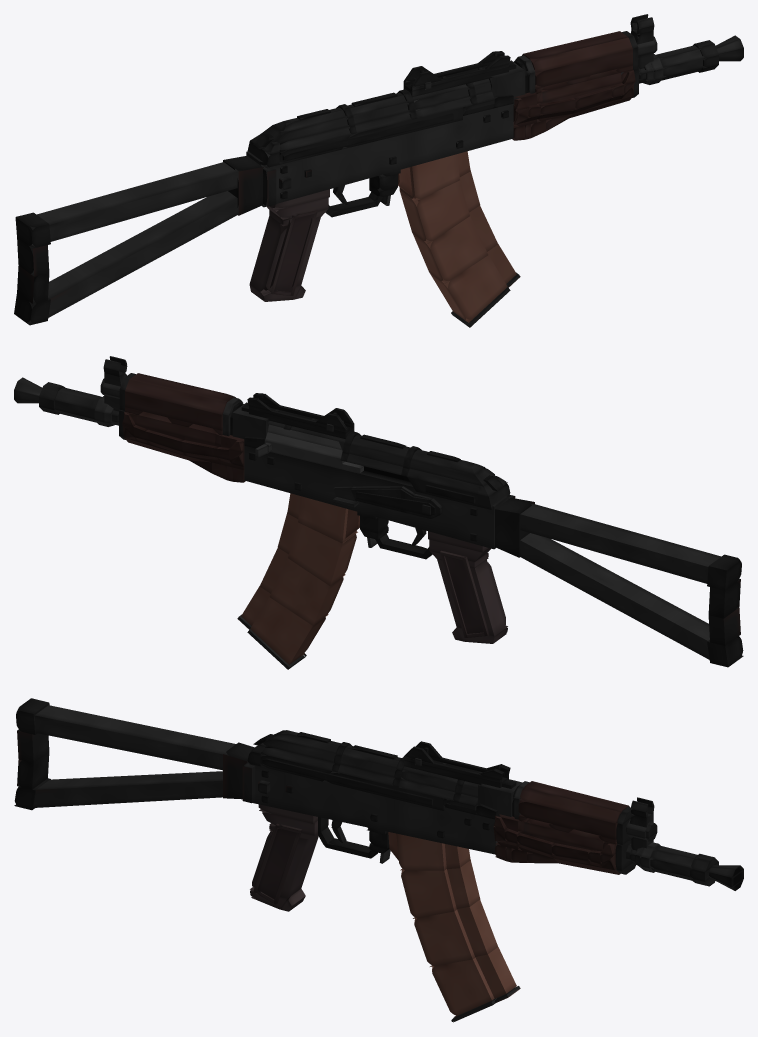
File: aks74u.obj
The picture shows the model from 3 angles, top to bottom: view 1: azimuth 30°, elevation 25°; view 2: azimuth 150°, elevation 25°; view 3: azimuth 330°, elevation 25°; orthographic projection.
Parts seen in each view (by area): view 1: gunModel0, gunModel121, gunModel120, ammoModel7, ammoModel1, ammoModel9, gunModel9, gunModel96, gunModel8, ammoModel0, gunModel29, gunModel119 (+21 smaller); view 2: gunModel0, gunModel121, gunModel120, ammoModel7, ammoModel1, ammoModel9, gunModel9, gunModel96, gunModel8, ammoModel0, gunModel29, gunModel119 (+21 smaller); view 3: gunModel0, gunModel120, gunModel121, ammoModel7, ammoModel9, gunModel9, ammoModel1, gunModel8, ammoModel0, gunModel29, gunModel47, gunModel102 (+20 smaller).
Boxes of the visible parts, x1,y1,x2,y2 form: gunModel0: [246, 103, 513, 207]; gunModel121: [29, 191, 238, 317]; gunModel120: [27, 162, 238, 246]; ammoModel7: [412, 216, 488, 283]; ammoModel1: [399, 180, 469, 243]; ammoModel9: [430, 255, 507, 322]; gunModel9: [522, 31, 632, 72]; gunModel96: [249, 216, 320, 294]; gunModel8: [535, 49, 632, 88]; ammoModel0: [399, 154, 459, 201]; gunModel29: [272, 78, 489, 132]; gunModel119: [223, 155, 262, 215]; gunModel0: [244, 445, 508, 549]; gunModel121: [520, 533, 709, 659]; gunModel120: [520, 503, 721, 583]; ammoModel7: [269, 558, 343, 625]; ammoModel1: [288, 522, 356, 585]; ammoModel9: [250, 597, 325, 664]; gunModel9: [125, 373, 235, 414]; gunModel96: [437, 559, 507, 636]; gunModel8: [125, 391, 222, 430]; ammoModel0: [298, 496, 357, 543]; gunModel29: [268, 420, 485, 474]; gunModel119: [495, 497, 534, 557]; gunModel0: [249, 764, 497, 854]; gunModel120: [34, 705, 235, 770]; gunModel121: [33, 771, 222, 807]; ammoModel7: [414, 910, 475, 966]; ammoModel9: [432, 957, 494, 1016]; gunModel9: [519, 781, 629, 823]; ammoModel1: [401, 869, 456, 918]; gunModel8: [518, 800, 617, 839]; ammoModel0: [396, 833, 446, 870]; gunModel29: [273, 730, 481, 787]; gunModel47: [262, 755, 432, 805]; gunModel102: [257, 826, 301, 899].
Bounding box in the file's own units: 23.65 × 8.24 × 1.8.
